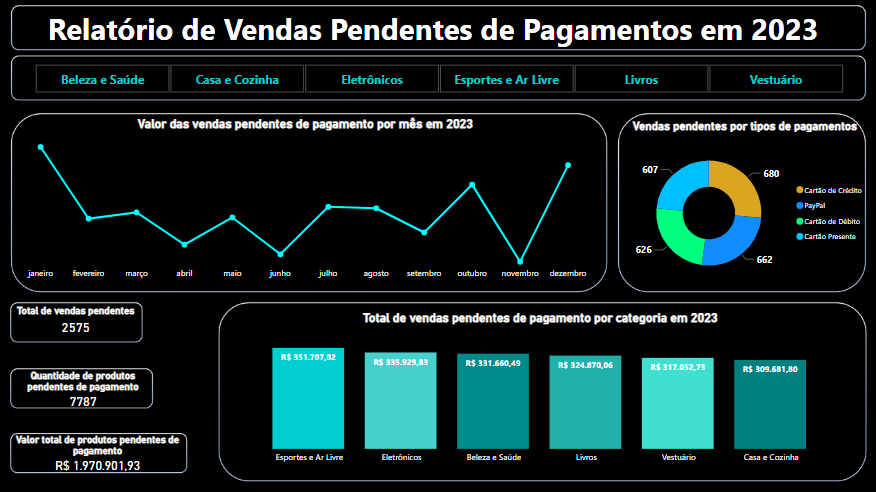

What the dashboard file says about the page in this screenshot:
{"tool":"powerbi","page":{"name":"Vendas_Pendentes_2023","canvas":[1280,720],"ordinal":2},"visuals":[{"type":"textbox","box":[29.7,7.1,1208,67.9],"z":0},{"type":"card","title":"Total de vendas pendentes","fields":{"Values":["Count(Vendas_Pendentes.ID do Pedido)"]},"box":[19.3,443.1,188.1,50.2],"z":1000},{"type":"card","title":"Quantidade de produtos pendentes de pagamento","fields":{"Values":["Sum(Vendas_Pendentes.Quantidade)"]},"box":[17,537.5,212.2,59.4],"z":2000},{"type":"card","title":"Valor total de produtos pendentes de pagamento","fields":{"Values":["Sum(Vendas_Pendentes.Preço Total)"]},"box":[15.5,631.1,257.6,61.8],"z":3000},{"type":"columnChart","title":"Total de vendas pendentes de pagamento por categoria em 2023","fields":{"Category":["Vendas_Pendentes.Categoria do Produto"],"Y":["Sum(Vendas_Pendentes.Preço Total)"]},"box":[340.9,451.2,896.8,232],"z":4000},{"type":"donutChart","title":"Vendas pendentes por tipos de pagamentos","fields":{"Category":["Vendas_Pendentes.Tipo de Pagamento"],"Y":["CountNonNull(Vendas_Pendentes.ID do Pedido)"]},"box":[902.5,172.6,369.2,254.6],"z":5000},{"type":"lineChart","title":"Valor das vendas pendentes de pagamento por mês em 2023","fields":{"Y":["Sum(Vendas_Pendentes.Preço Total)"],"Category":["Vendas_Pendentes.Data do Pedido.Variation.Hierarquia de datas.Mês"]},"box":[29.7,168.3,836,246.1],"z":6000},{"type":"slicer","fields":{"Values":["Vendas_Pendentes.Categoria do Produto"]},"box":[29.6,87.6,1223.6,54.1],"z":7000}]}

Visuals, with their boxes in screenshot pixels (x1, y1, x2, y2), scaled from the page's 1280x720 canvas onto the 876x492 screenshot:
textbox: [20, 5, 847, 51]
"Total de vendas pendentes" card: [13, 303, 142, 337]
"Quantidade de produtos pendentes de pagamento" card: [12, 367, 157, 408]
"Valor total de produtos pendentes de pagamento" card: [11, 431, 187, 473]
"Total de vendas pendentes de pagamento por categoria em 2023" columnChart: [233, 308, 847, 467]
"Vendas pendentes por tipos de pagamentos" donutChart: [618, 118, 870, 292]
"Valor das vendas pendentes de pagamento por mês em 2023" lineChart: [20, 115, 592, 283]
slicer - Vendas_Pendentes.Categoria do Produto: [20, 60, 858, 97]
